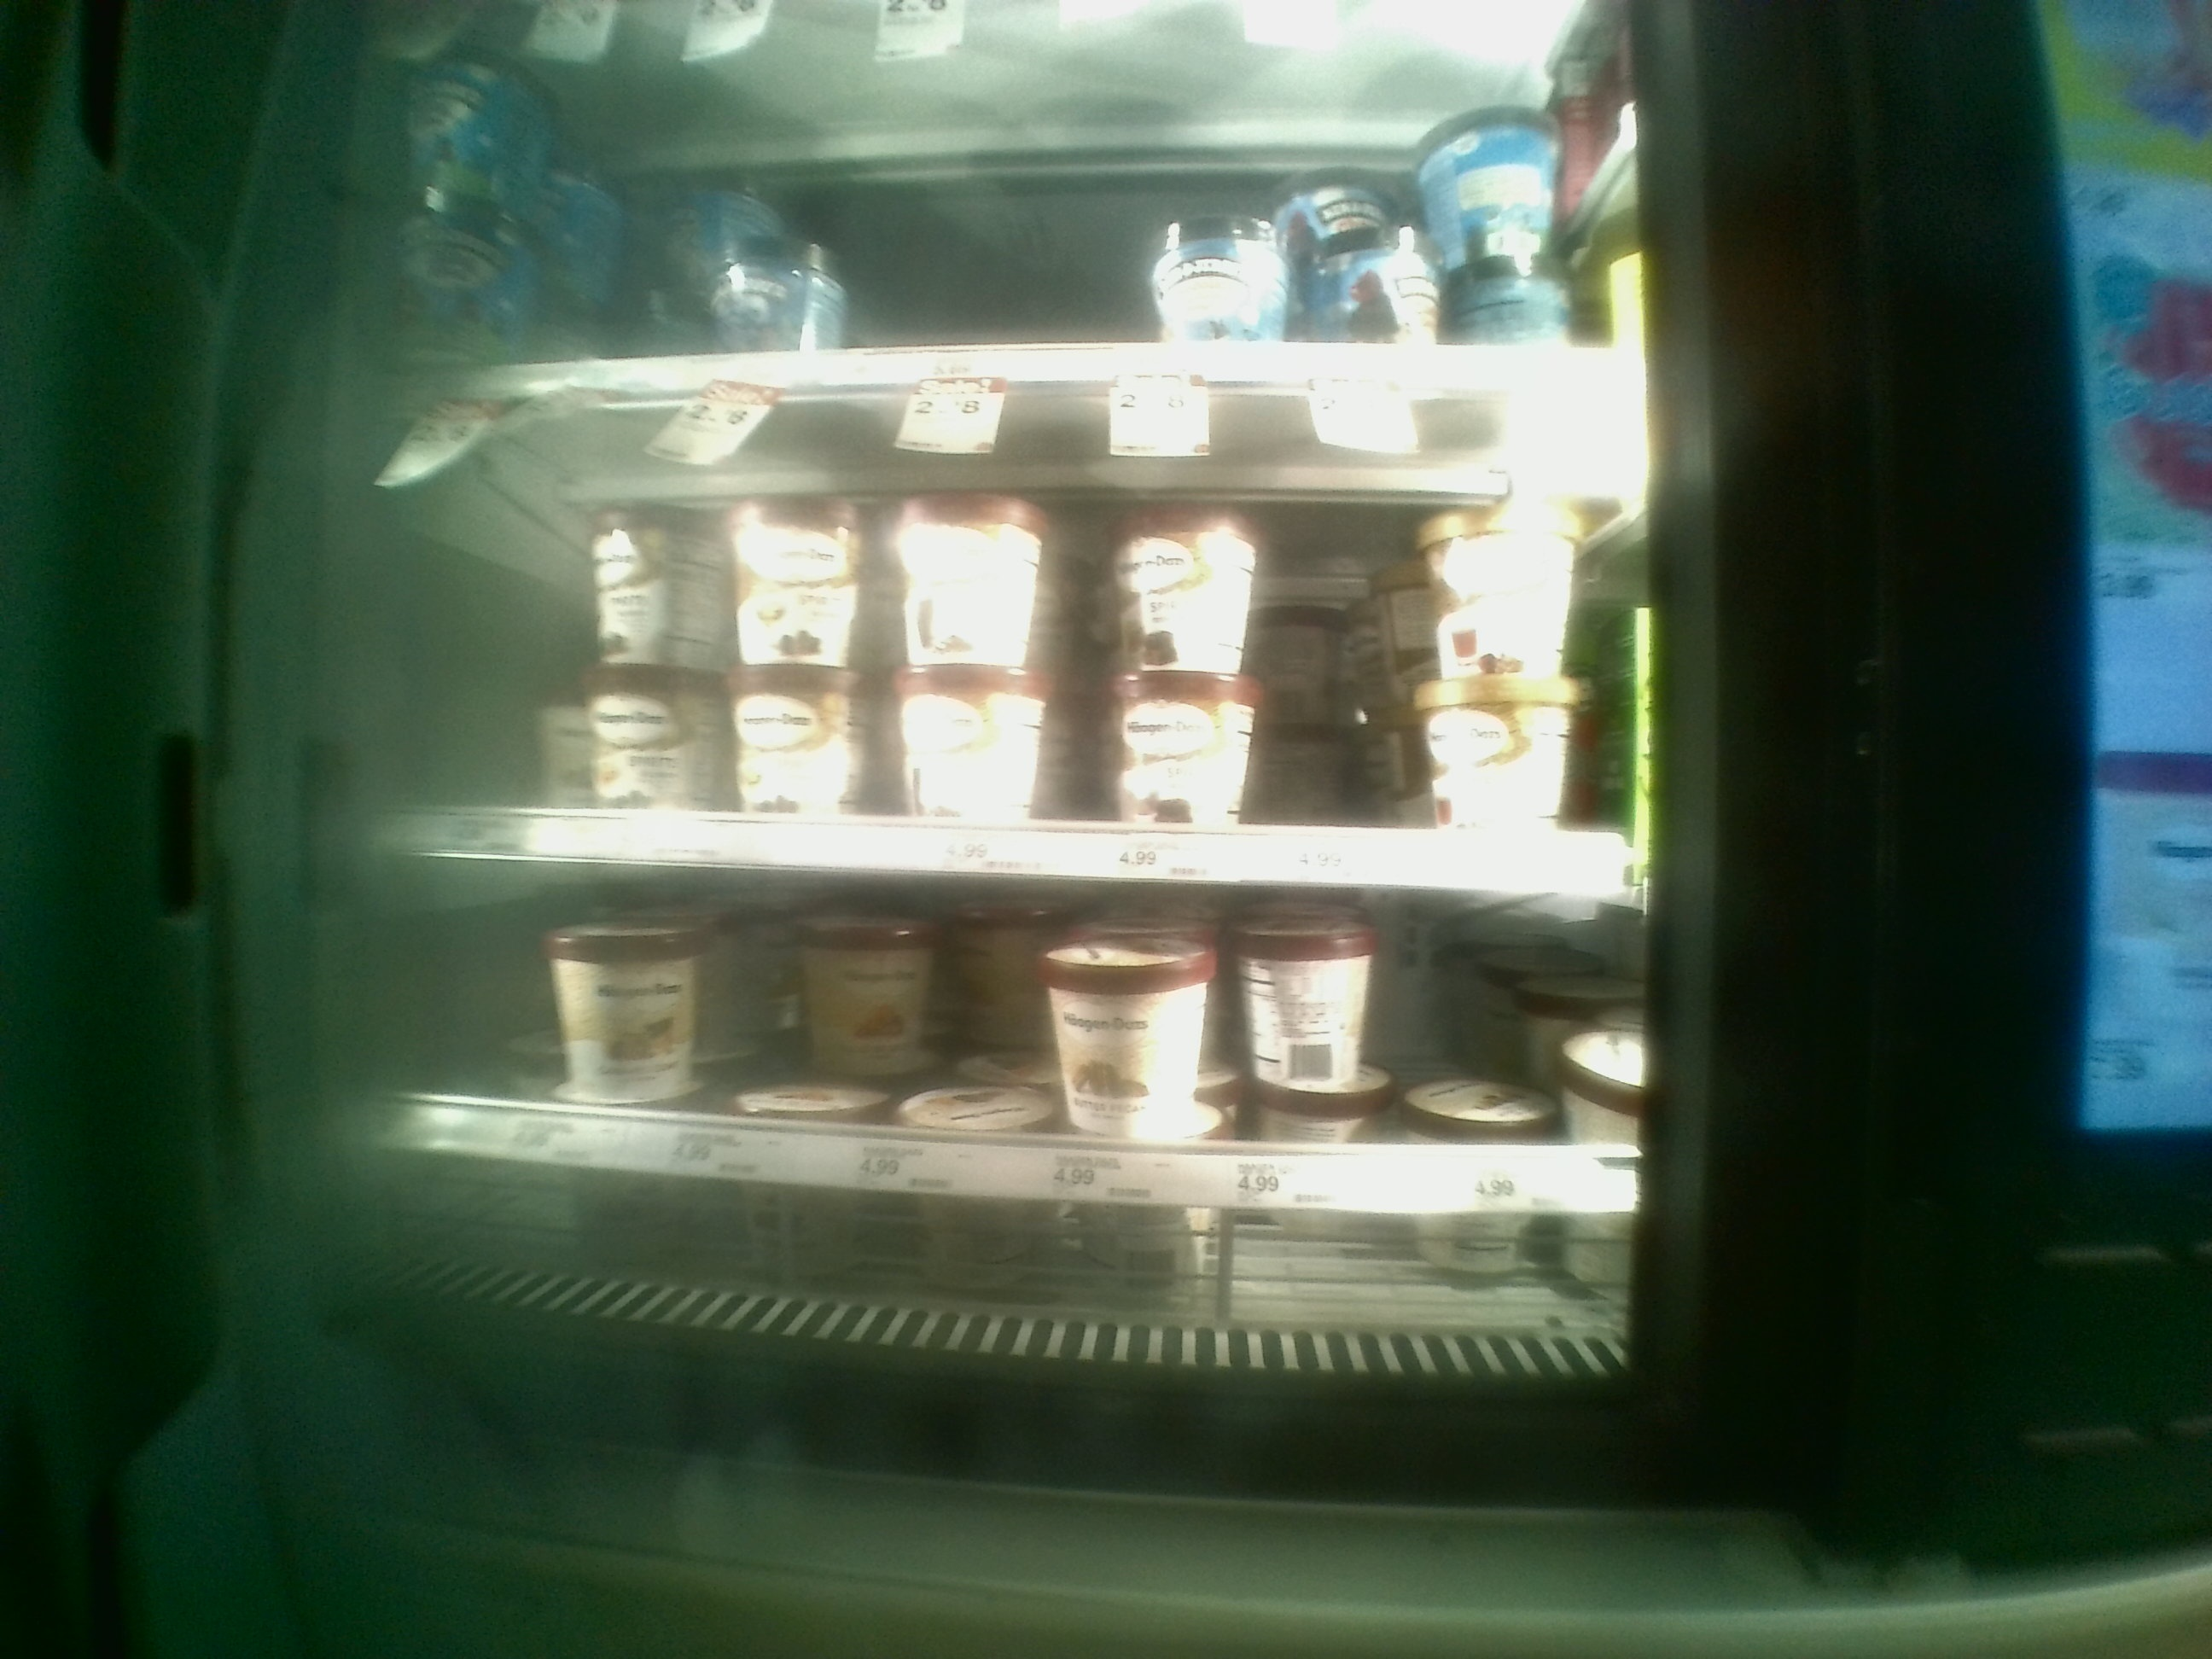ice-cream-shelf: (347, 401, 1646, 887), (343, 882, 1655, 1321)
